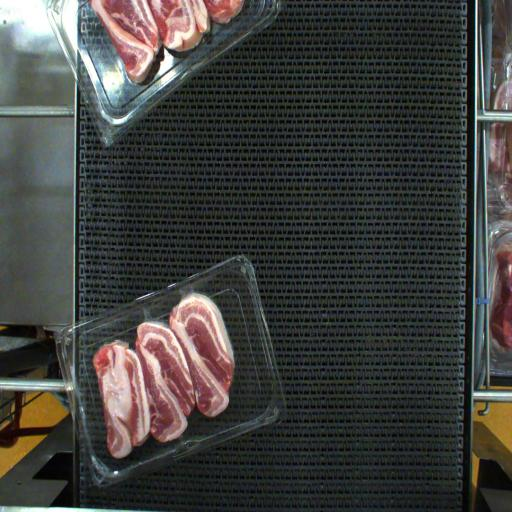packaging-error: (158, 264, 205, 306), (133, 293, 157, 328)
